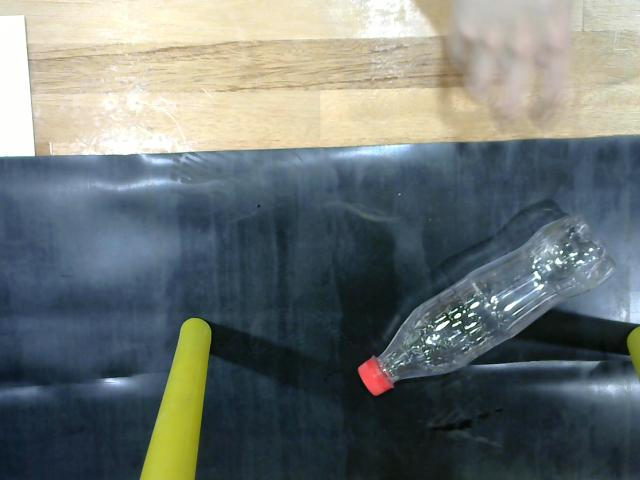bottle: (354, 211, 626, 402)
